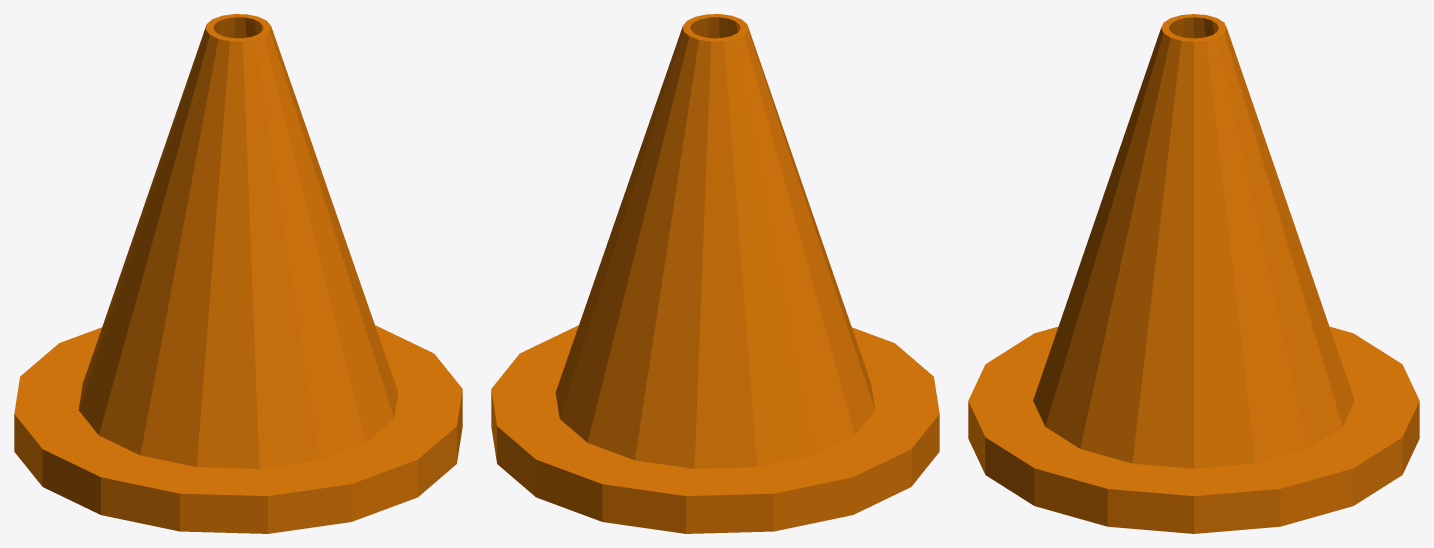
The model's file is Cono.glb.
3 views of the same model, side by side, from view 1: azimuth 30°, elevation 25°; view 2: azimuth 150°, elevation 25°; view 3: azimuth 270°, elevation 25° (orthographic).
Parts seen in each view (by area): view 1: Cylinder; view 2: Cylinder; view 3: Cylinder.
Part boxes in pixels (left/top/right/bottom): Cylinder: left=14, top=14, right=462, bottom=533; Cylinder: left=491, top=14, right=939, bottom=533; Cylinder: left=968, top=14, right=1419, bottom=533.
Bounding box in the file's own units: 0.5684 × 0.5706 × 0.5684.
